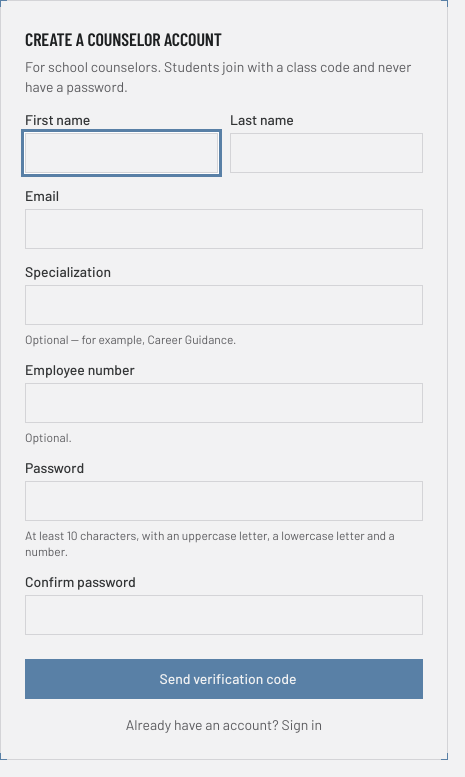
CounselorSignupPage › shows the same code step, and no "already registered" hint, for an address that is taken
Expected: the field labelled "Email" is shown, [25,209,423,249]
Type "Liza" into the field labelled "First name" at (122, 153), box [25,133,218,173]
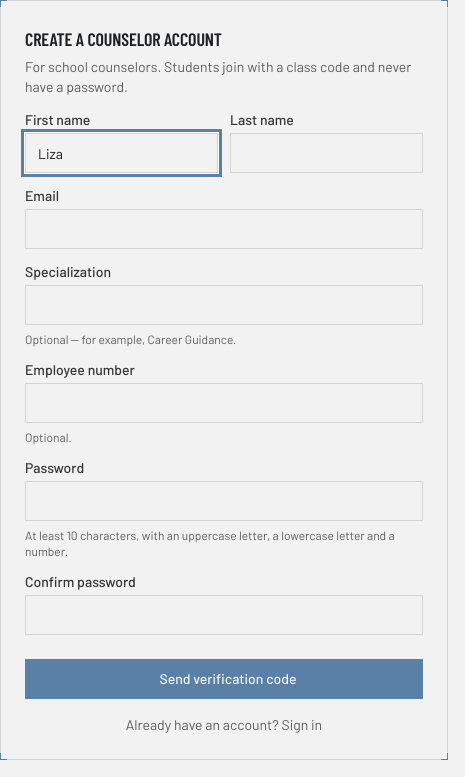
Type "Manalo" into the field labelled "Last name" at (326, 153), box [230,133,423,173]
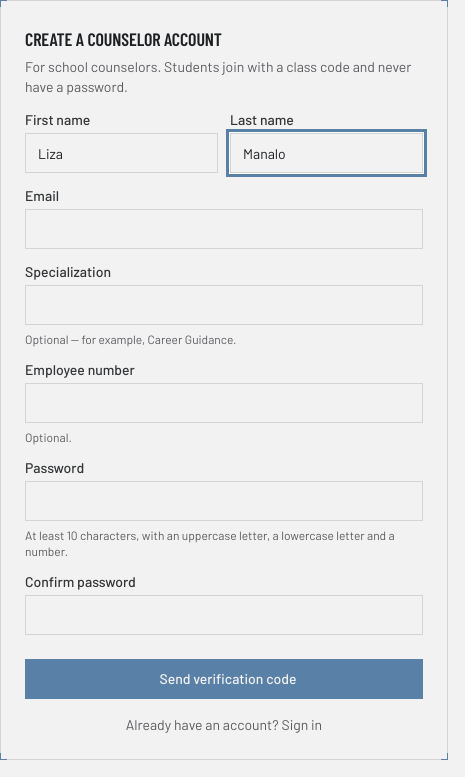
Type "taken@school.test" into the field labelled "Email" at (224, 229), box [25,209,423,249]
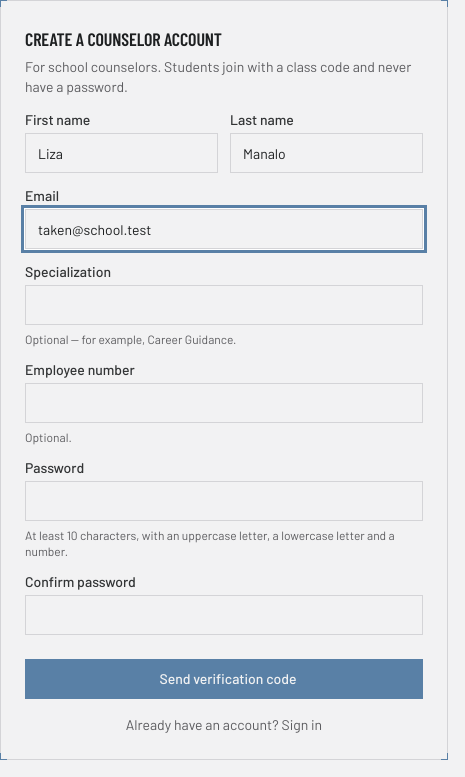
Type "ChosenByThem1" into the password field labelled "Password" at (224, 501), box [25,481,423,521]
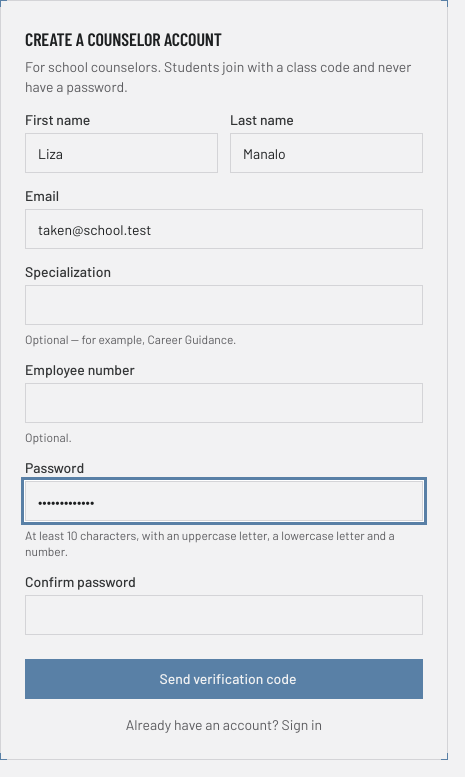
Type "ChosenByThem1" into the password field labelled "Confirm password" at (224, 615), box [25,595,423,635]
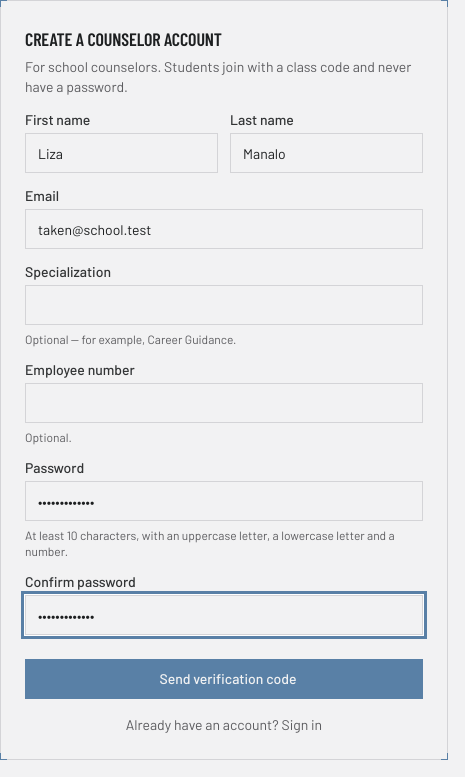
Click the button "Send verification code" at (224, 679), box [25,659,423,699]
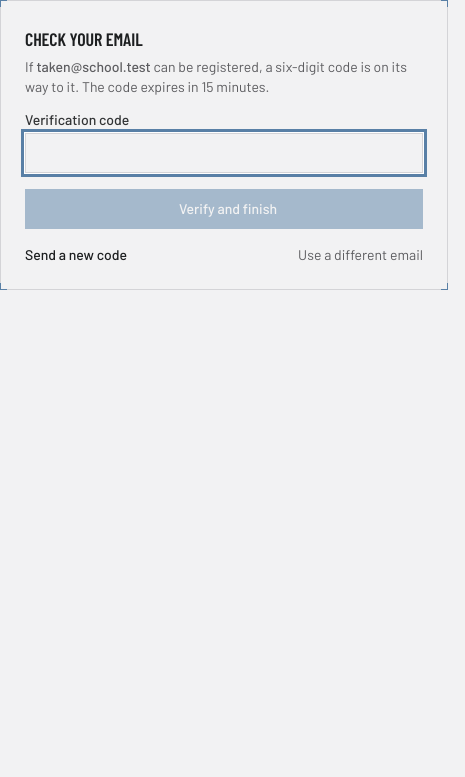
Result: the field labelled "Verification code" is shown at [25,133,423,173]
Result: the text "taken@school.test" is shown at [36,58,151,75]
Result: the link "Already" is gone
